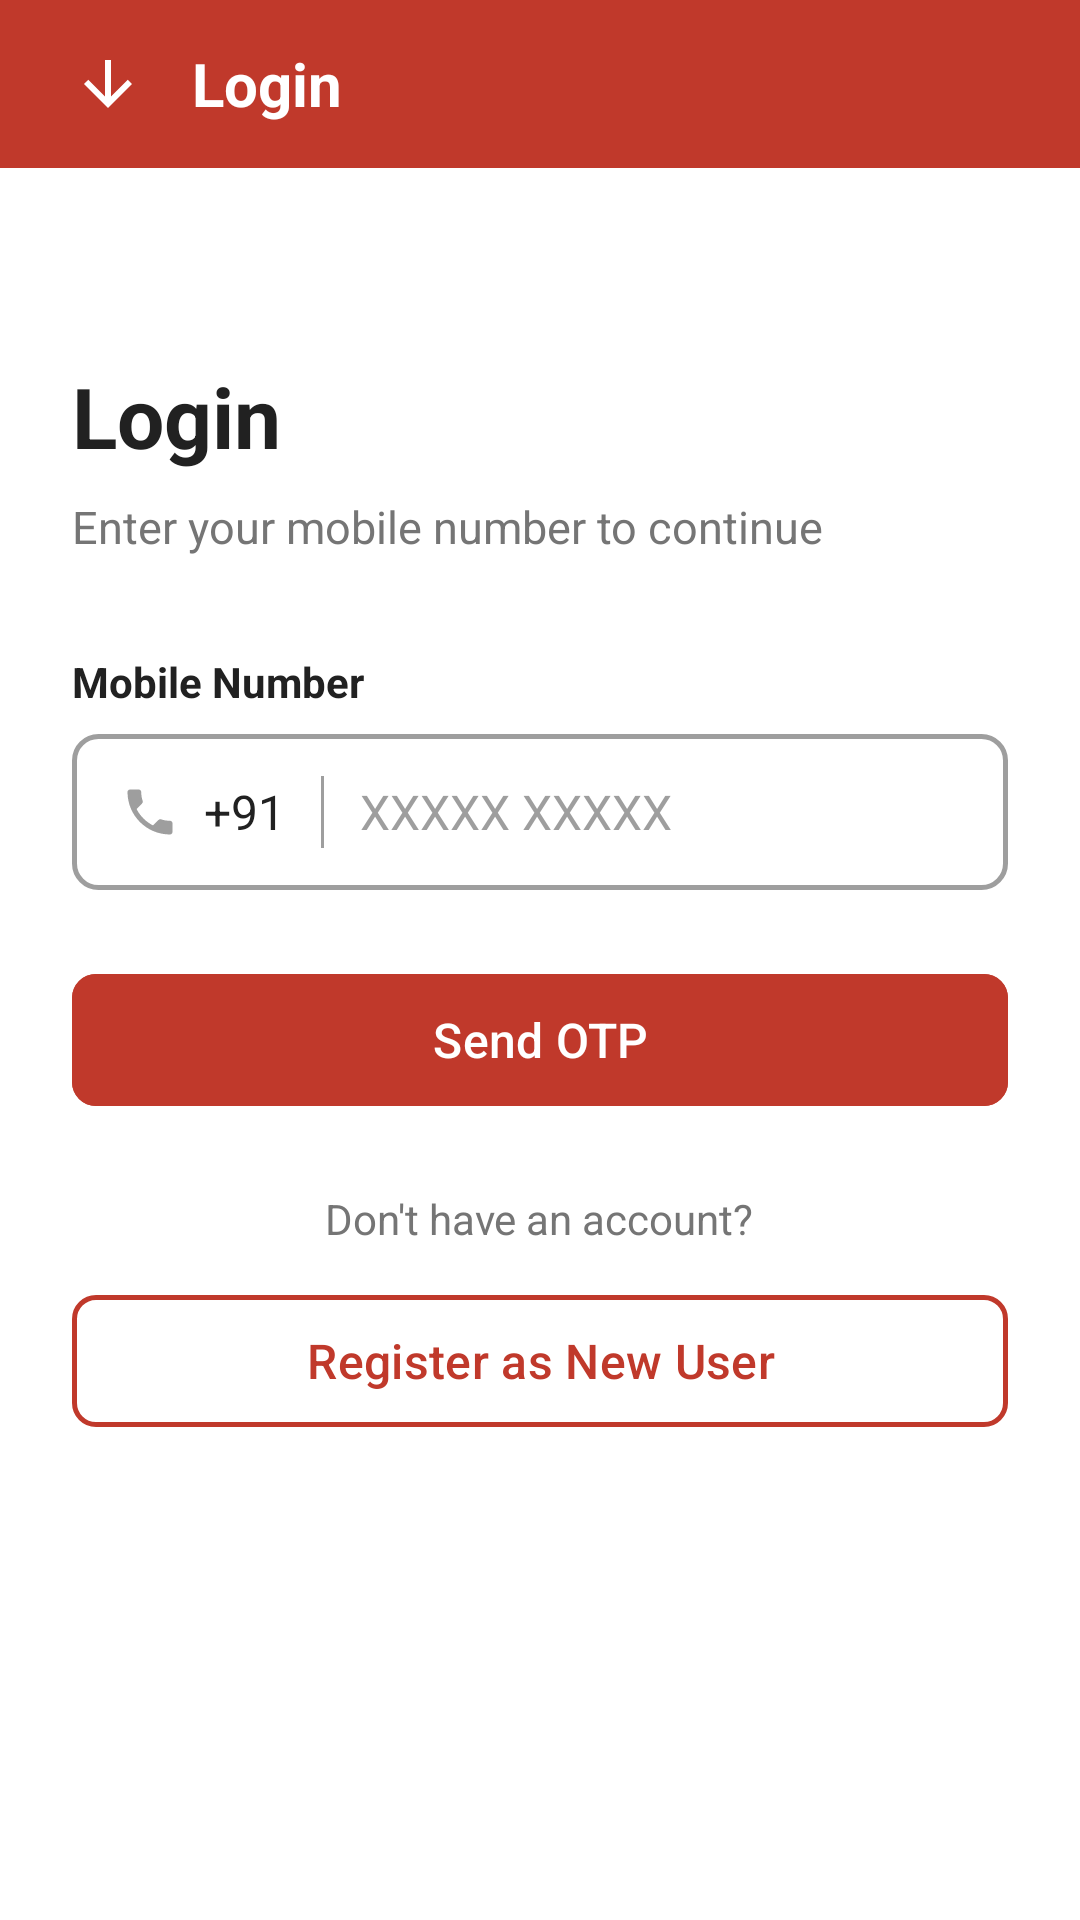

Where icons sit on this 1080w x 1920h app screen, as {"x1": x1, "y1": y1, "x2": x2, "y2": y2}:
Phone: {"x1": 127, "y1": 789, "x2": 173, "y2": 835}
